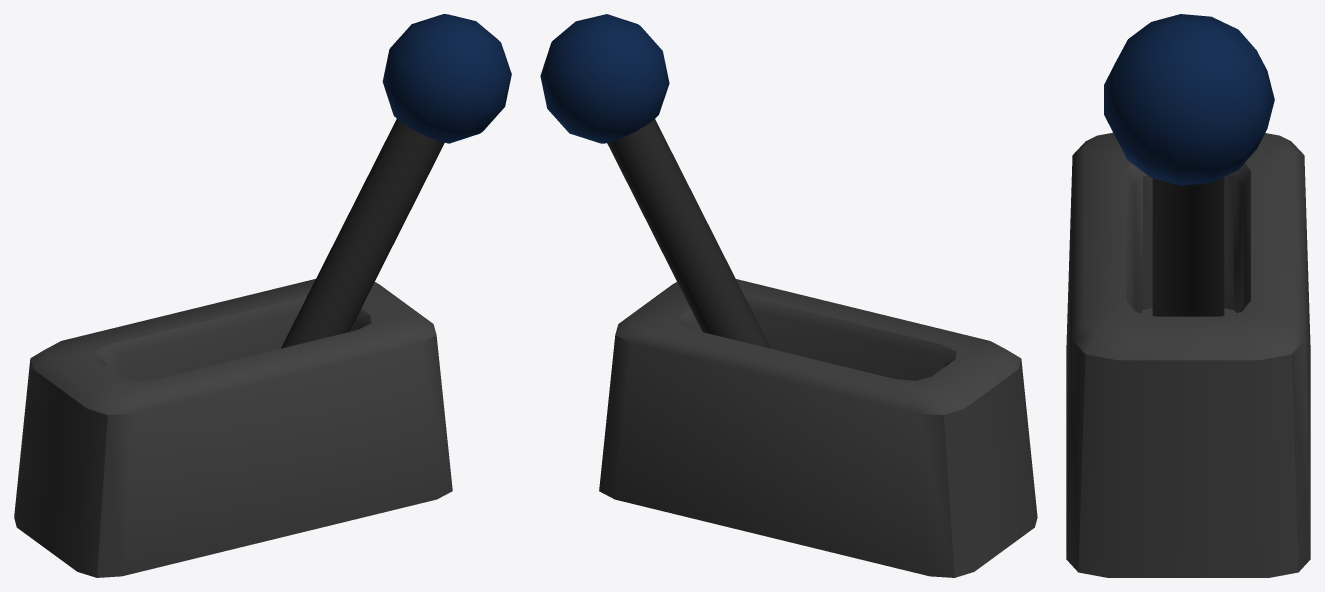
Rendered from Lever.obj.
3 renders of one model, left to right at view 1: azimuth 30°, elevation 25°; view 2: azimuth 150°, elevation 25°; view 3: azimuth 270°, elevation 25°, orthographic. The views are drawn at different scales.
Visible parts, largest first — view 1: Lever_Cylinder.001; view 2: Lever_Cylinder.001; view 3: Lever_Cylinder.001.
Part boxes in pixels (x1=…): Lever_Cylinder.001: x1=14, y1=14, x2=511, y2=577; Lever_Cylinder.001: x1=540, y1=14, x2=1037, y2=577; Lever_Cylinder.001: x1=1066, y1=14, x2=1310, y2=577.
Bounding box in the file's own units: 1.45 × 1.31 × 0.5072.
